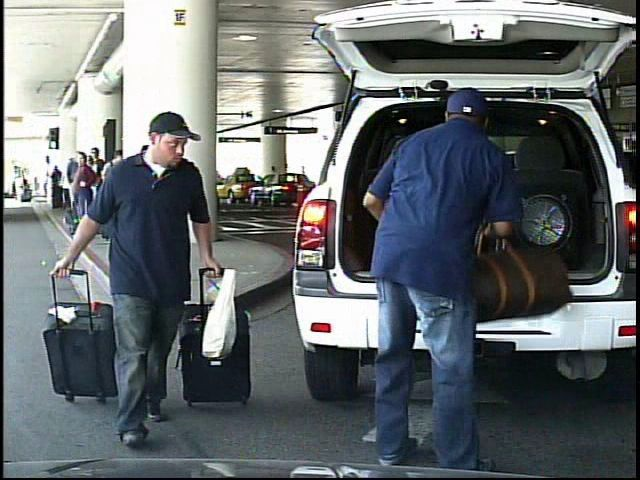person: (347, 87, 533, 476), (81, 109, 241, 441), (279, 162, 291, 198), (14, 171, 25, 203)
